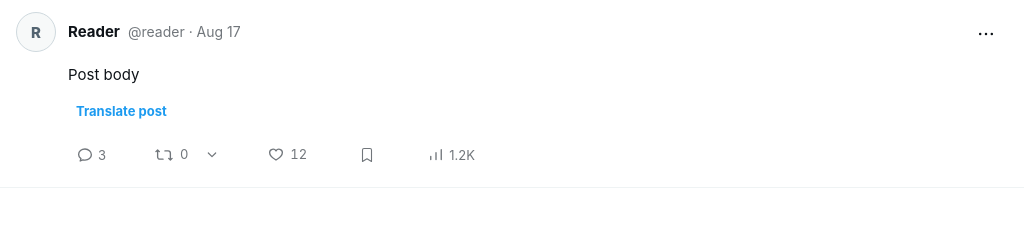
Test: PostCard View metric and telemetry lifecycle › shows a retry action after a translation failure
Click the button "Translate post".
click(121, 110)  # box [68,94,175,126]
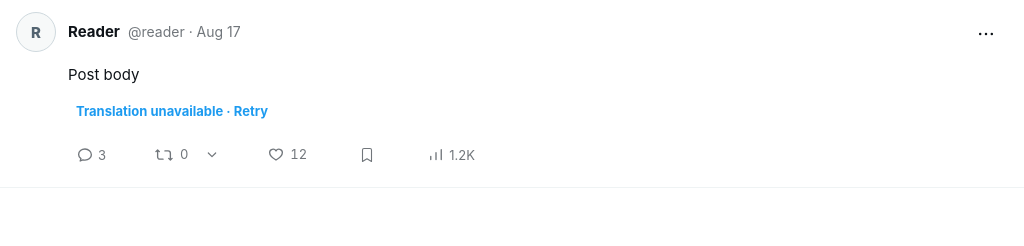
Result: the button "Translation unavailable · Retry" is shown
Click the button "Translation unavailable · Retry".
click(172, 110)  # box [68,94,276,126]
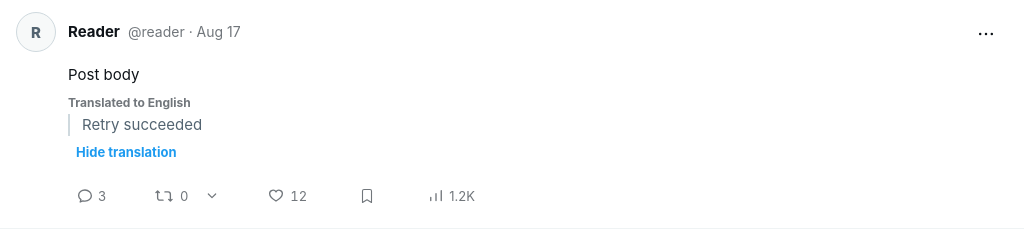
Result: the element showing "Retry succeeded" is shown at [68,114,1008,136]
